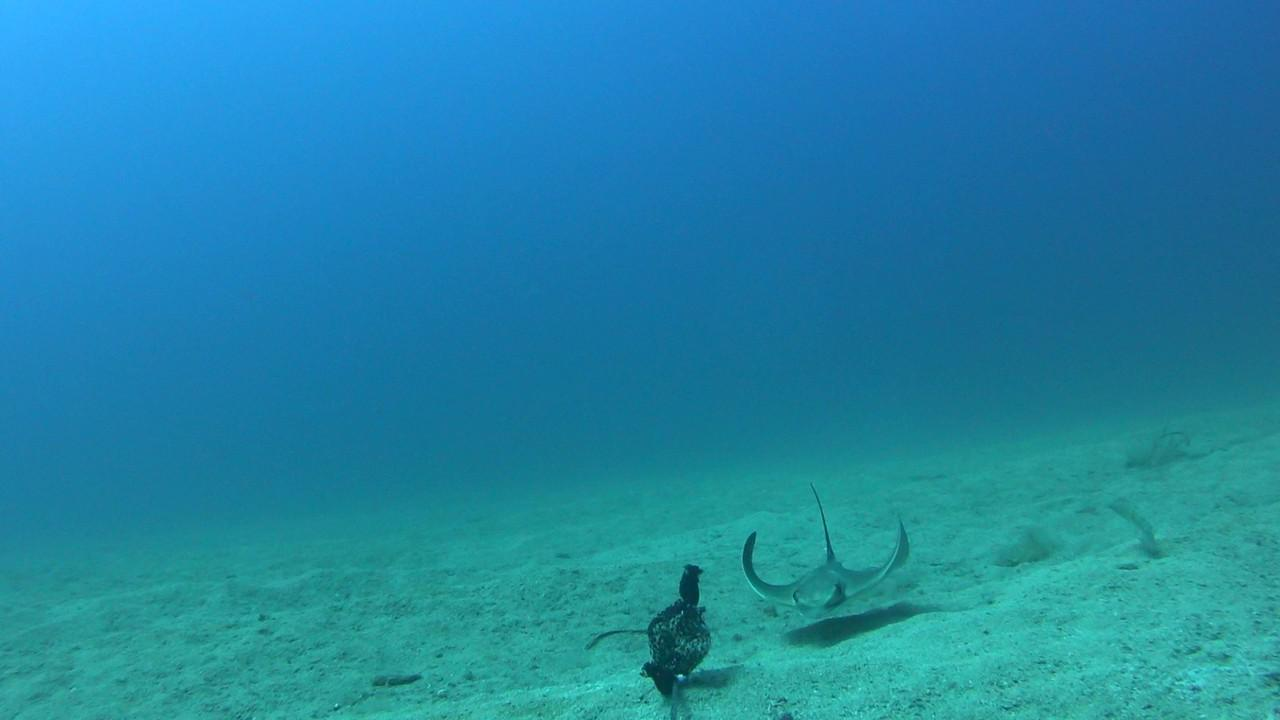myliobatis: (721, 481, 945, 627)
raor: (1107, 499, 1158, 555)
